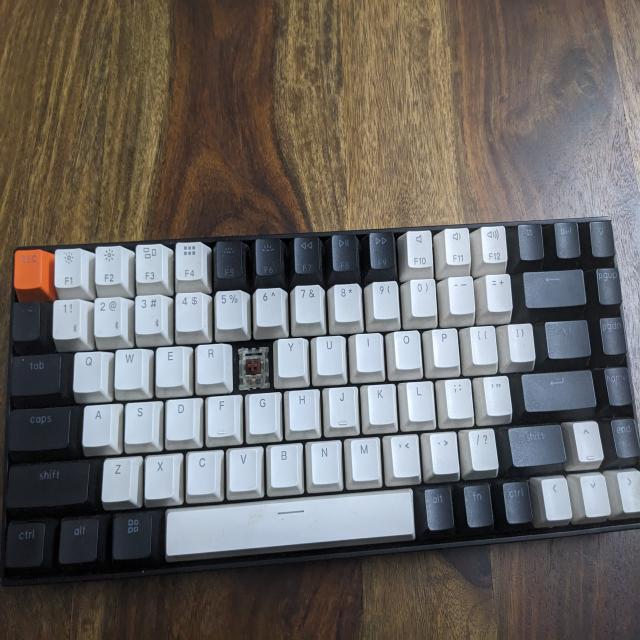C: (236, 348, 268, 390)
